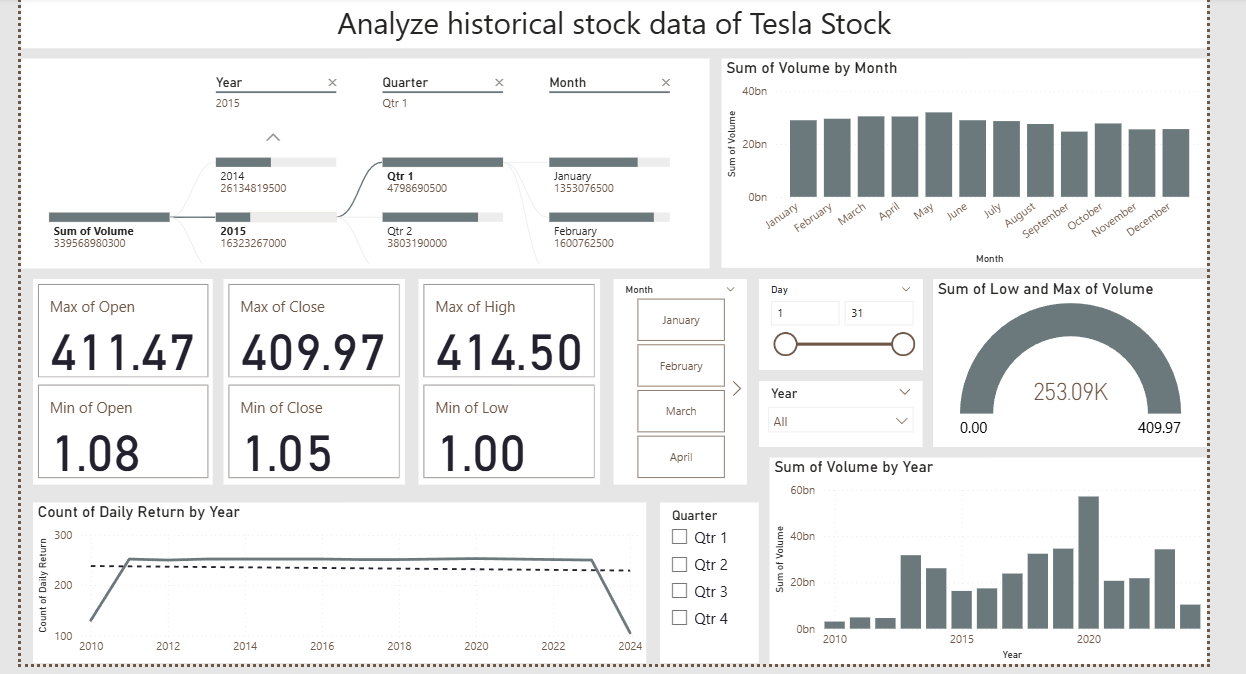

Layout of this report page (visuals, bound fields, positions):
{"tool":"powerbi","page":{"name":"Page 1","canvas":[1280,720],"ordinal":0},"visuals":[{"type":"decompositionTreeVisual","fields":{"Analyze":["Sum(Tesla_dataset.Volume)"],"ExplainBy":["Tesla_dataset.Date.Variation.Date Hierarchy.Year","Tesla_dataset.Date.Variation.Date Hierarchy.Quarter","Tesla_dataset.Date.Variation.Date Hierarchy.Month"]},"box":[0,66.4,743.2,226.7],"z":0},{"type":"cardVisual","fields":{"Data":["Max(Tesla_dataset.High)","Min(Tesla_dataset.Low)"]},"box":[429.1,304.4,195.9,221.8],"z":1000},{"type":"columnChart","fields":{"Category":["Tesla_dataset.Date.Variation.Date Hierarchy.Year"],"Y":["Sum(Tesla_dataset.Volume)"]},"box":[808,497.1,472.8,223.5],"z":2000},{"type":"cardVisual","fields":{"Data":["Max(Tesla_dataset.Open)","Min(Tesla_dataset.Open)"]},"box":[13,304.4,194.3,221.8],"z":3000},{"type":"cardVisual","fields":{"Data":["Max(Tesla_dataset.Close)","Min(Tesla_dataset.Close)"]},"box":[218.6,304.4,195.9,221.8],"z":4000},{"type":"slicer","fields":{"Values":["Tesla_dataset.Date.Variation.Date Hierarchy.Year"]},"box":[796.7,414.5,176.5,71.2],"z":5000},{"type":"slicer","fields":{"Values":["Tesla_dataset.Date.Variation.Date Hierarchy.Quarter"]},"box":[689.8,545.7,106.9,173.3],"z":6000},{"type":"slicer","fields":{"Values":["Tesla_dataset.Date.Variation.Date Hierarchy.Month"]},"box":[639.6,304.4,144.1,221.8],"z":7000},{"type":"slicer","fields":{"Values":["Tesla_dataset.Date.Variation.Date Hierarchy.Day"]},"box":[796.7,304.4,176.5,97.2],"z":8000},{"type":"lineChart","fields":{"Category":["Tesla_dataset.Date.Variation.Date Hierarchy.Year"],"Y":["CountNonNull(Tesla_dataset.Daily Return)"]},"box":[13,545.7,662.3,173.3],"z":10000},{"type":"columnChart","fields":{"Category":["Tesla_dataset.Date.Variation.Date Hierarchy.Month"],"Y":["Sum(Tesla_dataset.Volume)"]},"box":[756.2,66.4,524.6,226],"z":11000},{"type":"gauge","fields":{"TargetValue":["Max(Tesla_dataset.Volume)"],"Y":["Sum(Tesla_dataset.Low)"]},"box":[984.5,304.4,296.3,181.4],"z":12000},{"type":"textbox","box":[0,0,1280.8,55.1],"z":13000}]}

Visuals, with their boxes on the page's 1280x720 design canvas (x1, y1, x2, y2). These are canvas units, not pixel positions in the 1246x674 screenshot, which may show the page scaled, cropped or inside an application window:
decompositionTreeVisual - Sum(Tesla_dataset.Volume) x Tesla_dataset.Date.Variation.Date Hierarchy.Year: [left=0, top=66, right=743, bottom=293]
cardVisual - Max(Tesla_dataset.High) x Min(Tesla_dataset.Low): [left=429, top=304, right=625, bottom=526]
columnChart - Tesla_dataset.Date.Variation.Date Hierarchy.Year x Sum(Tesla_dataset.Volume): [left=808, top=497, right=1281, bottom=721]
cardVisual - Max(Tesla_dataset.Open) x Min(Tesla_dataset.Open): [left=13, top=304, right=207, bottom=526]
cardVisual - Max(Tesla_dataset.Close) x Min(Tesla_dataset.Close): [left=219, top=304, right=414, bottom=526]
slicer - Tesla_dataset.Date.Variation.Date Hierarchy.Year: [left=797, top=414, right=973, bottom=486]
slicer - Tesla_dataset.Date.Variation.Date Hierarchy.Quarter: [left=690, top=546, right=797, bottom=719]
slicer - Tesla_dataset.Date.Variation.Date Hierarchy.Month: [left=640, top=304, right=784, bottom=526]
slicer - Tesla_dataset.Date.Variation.Date Hierarchy.Day: [left=797, top=304, right=973, bottom=402]
lineChart - Tesla_dataset.Date.Variation.Date Hierarchy.Year x CountNonNull(Tesla_dataset.Daily Return): [left=13, top=546, right=675, bottom=719]
columnChart - Tesla_dataset.Date.Variation.Date Hierarchy.Month x Sum(Tesla_dataset.Volume): [left=756, top=66, right=1281, bottom=292]
gauge - Max(Tesla_dataset.Volume) x Sum(Tesla_dataset.Low): [left=984, top=304, right=1281, bottom=486]
textbox: [left=0, top=0, right=1281, bottom=55]
